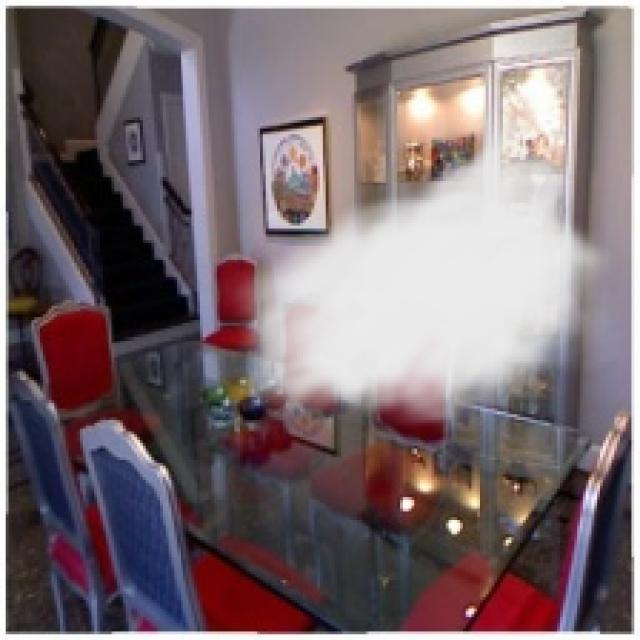Smoke: (215, 86, 620, 434)
